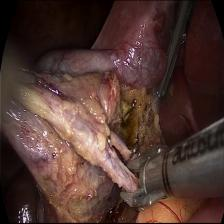Clipper: (117, 140, 174, 218)
Grasper: (152, 16, 195, 104)
